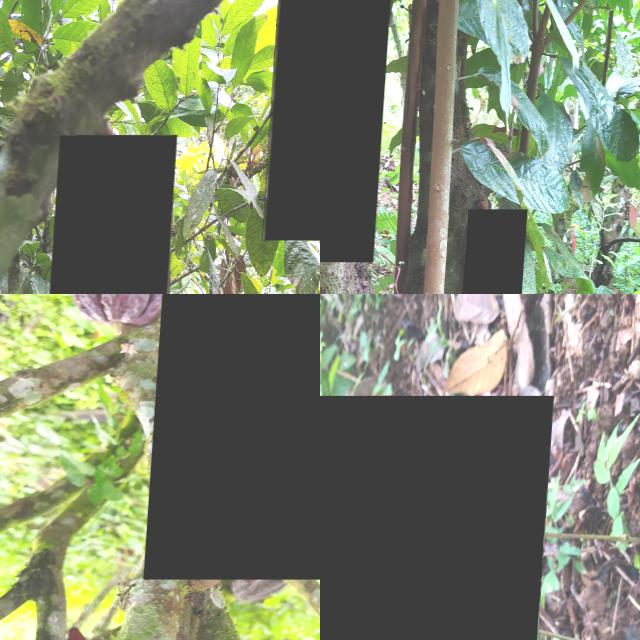Fitoftora: (42, 135, 180, 294)
Monilia: (320, 395, 555, 640)
Sana: (151, 294, 320, 579), (320, 0, 395, 262), (267, 0, 320, 240), (463, 209, 531, 294), (60, 627, 105, 640)
